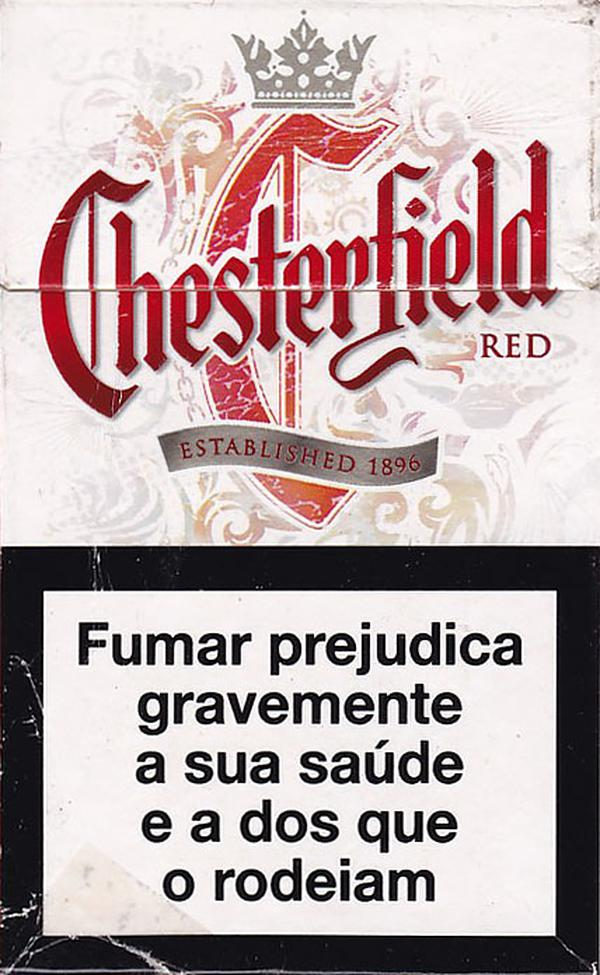chesterfield_red: (6, 4, 593, 972)
